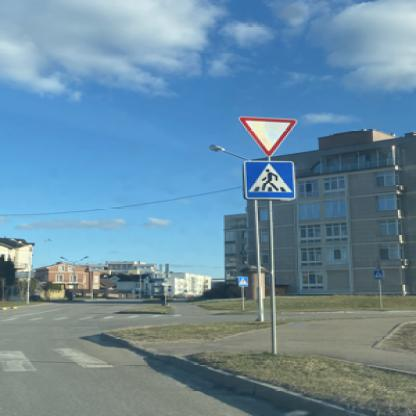crosswalk: (240, 159, 294, 199), (372, 268, 382, 280), (236, 276, 247, 286)
